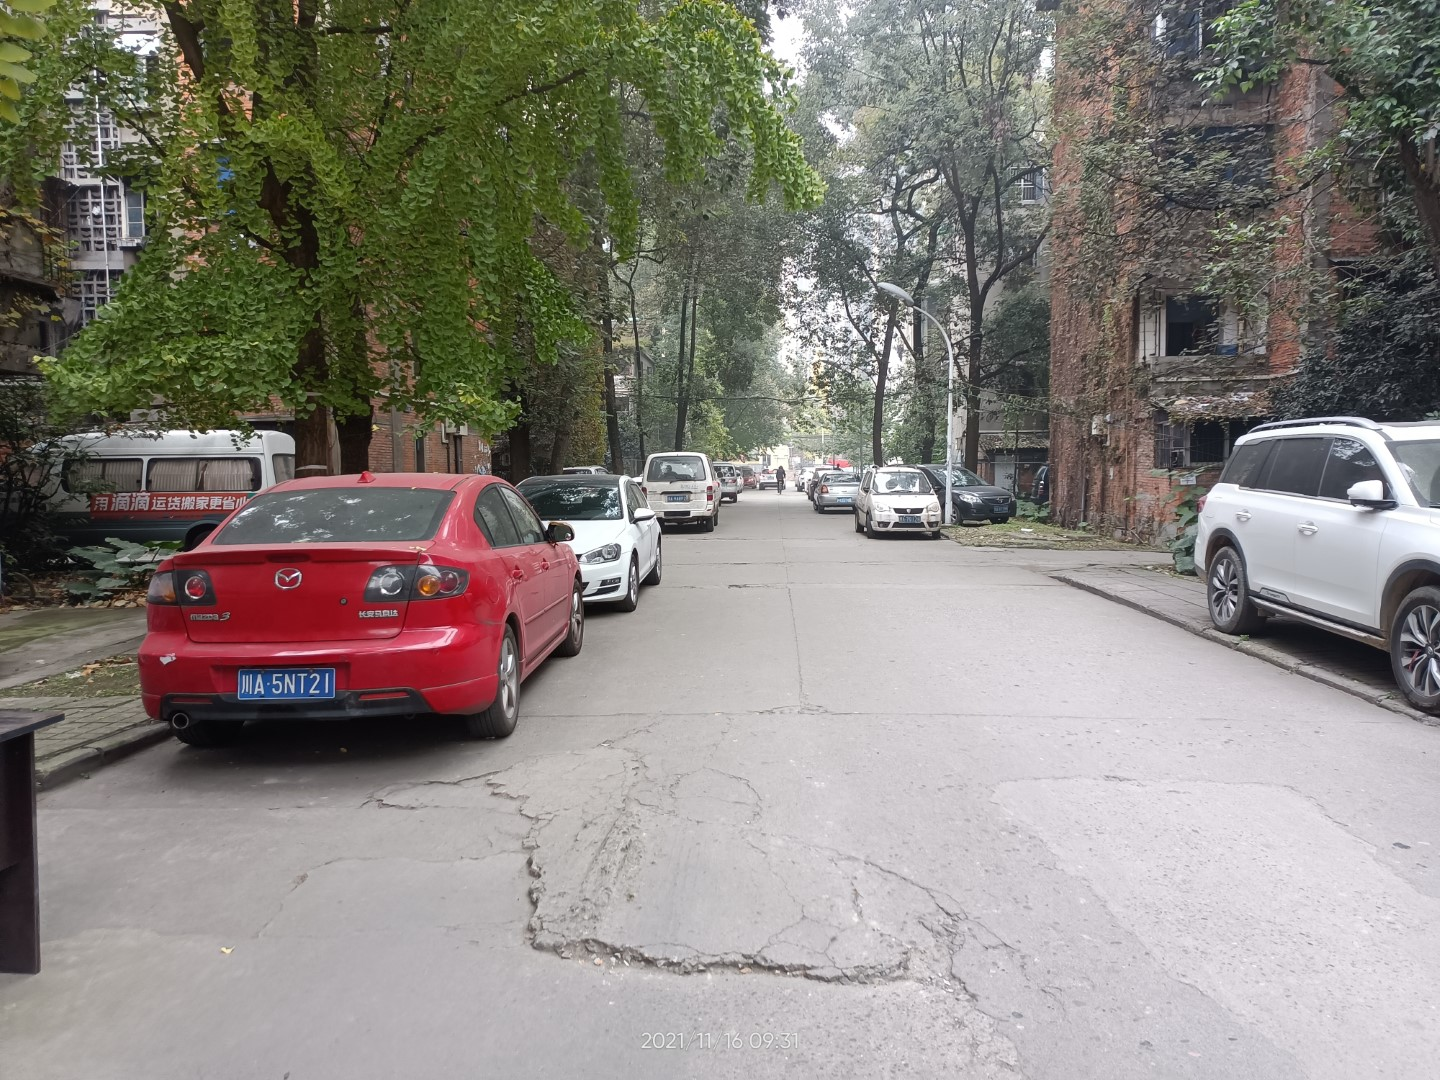plate: (237, 666, 334, 698)
